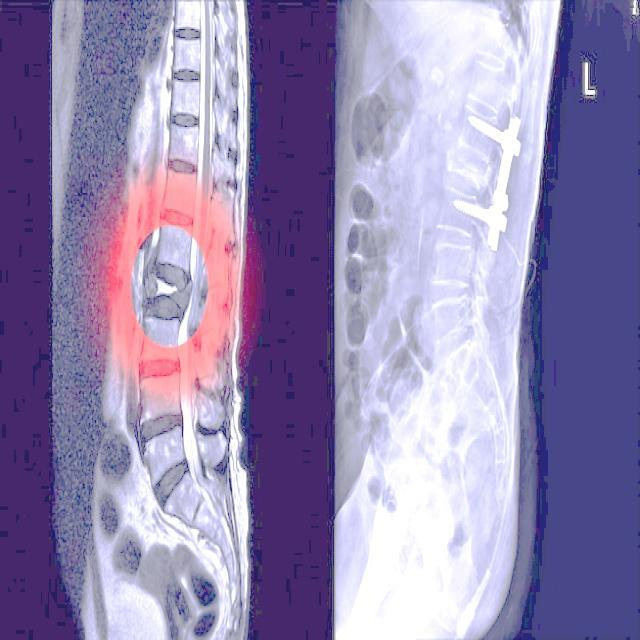Compression-Crush Fracutre: (424, 279, 484, 340), (144, 268, 192, 316)
